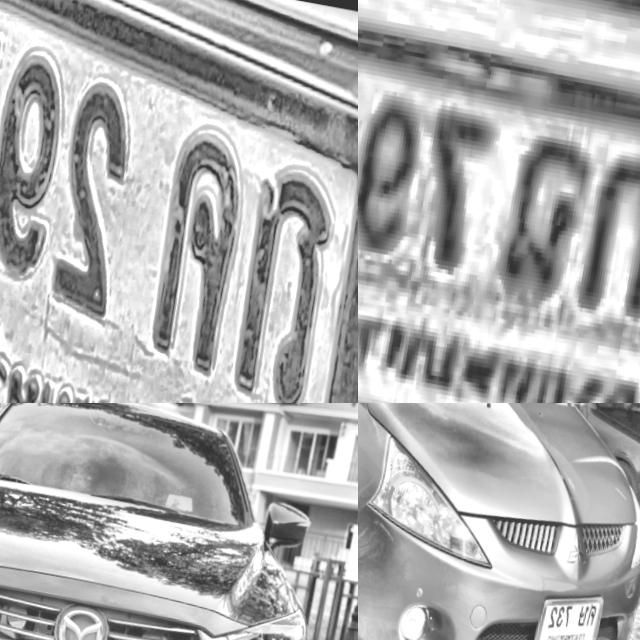license-plate: (0, 0, 358, 403), (358, 0, 640, 403), (524, 577, 609, 640)
